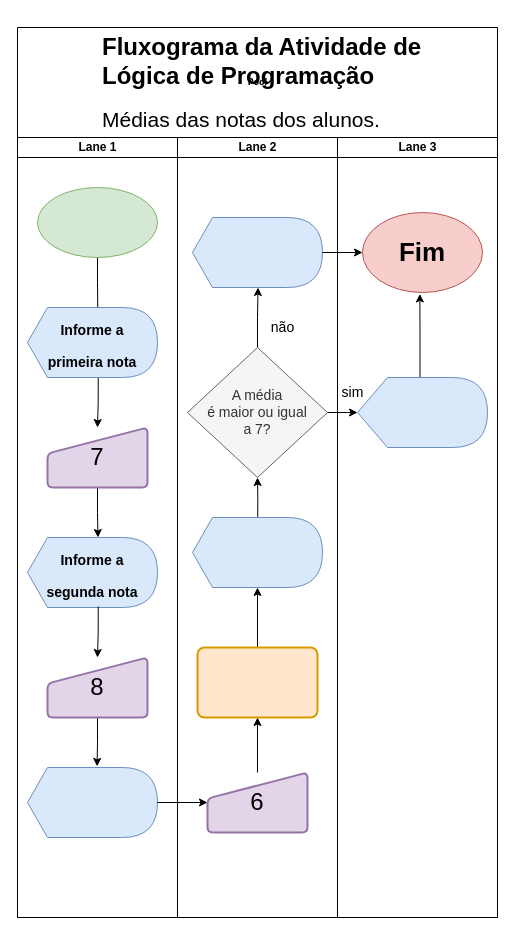
This 515x935 diagram has some shape labels left out. The centre of each missing label's shape, as x and y in pixels:
"Aprovado" belongs at (x=422, y=412).
"Informe a terceira nota" belongs at (x=92, y=802).
"Início" belongs at (x=97, y=222).
"Média" belongs at (x=257, y=552).
"Média = (nota1+ nota2+nota3)/3" belongs at (x=257, y=682).
"Reprovado" belongs at (x=257, y=252).
